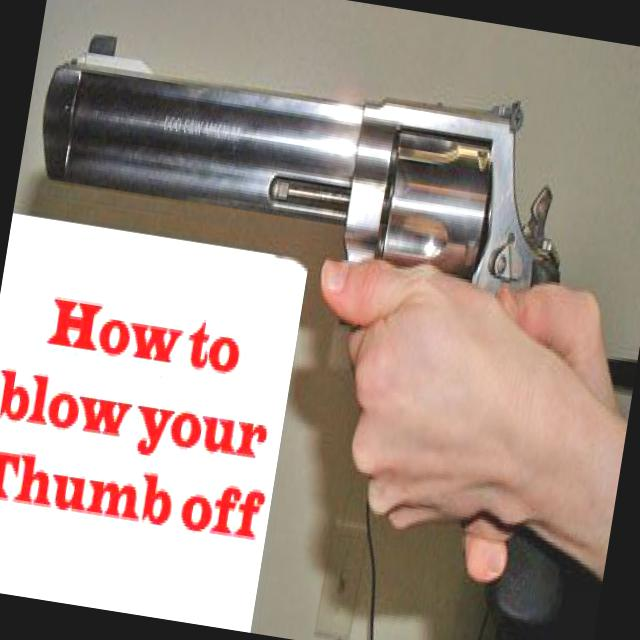handgun: (0, 10, 639, 623)
